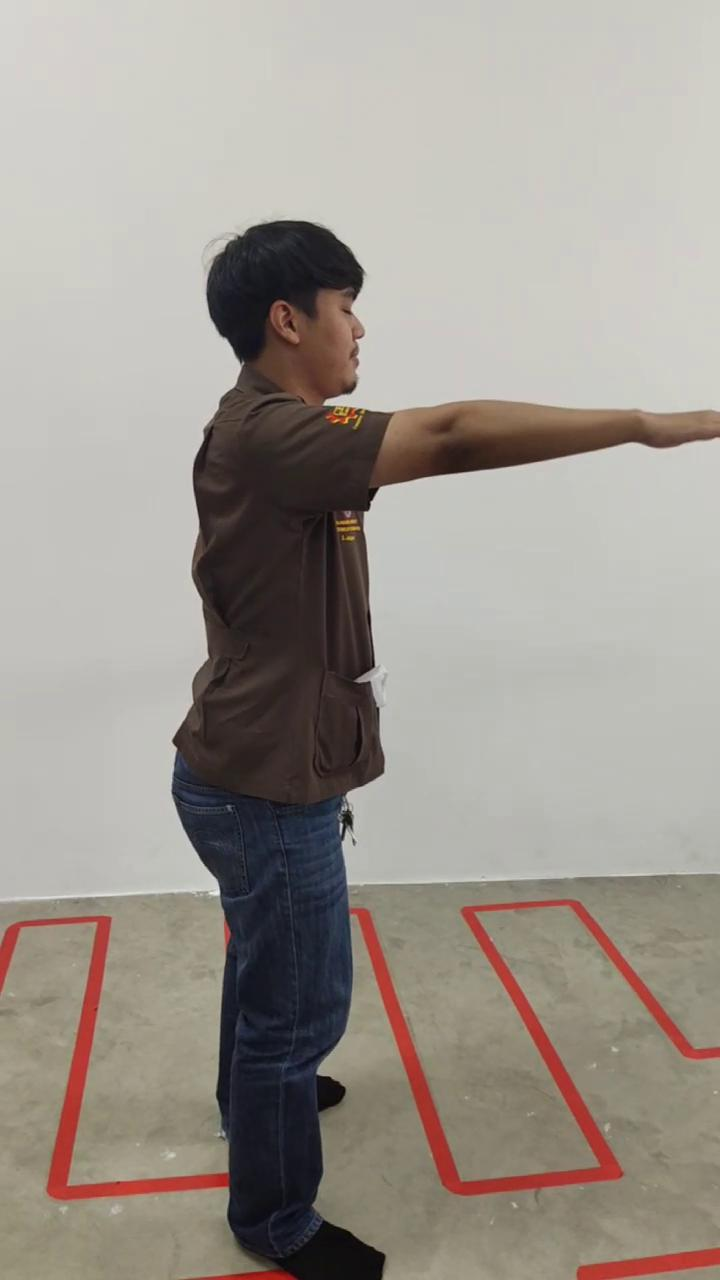squat up: (172, 220, 718, 1280)
